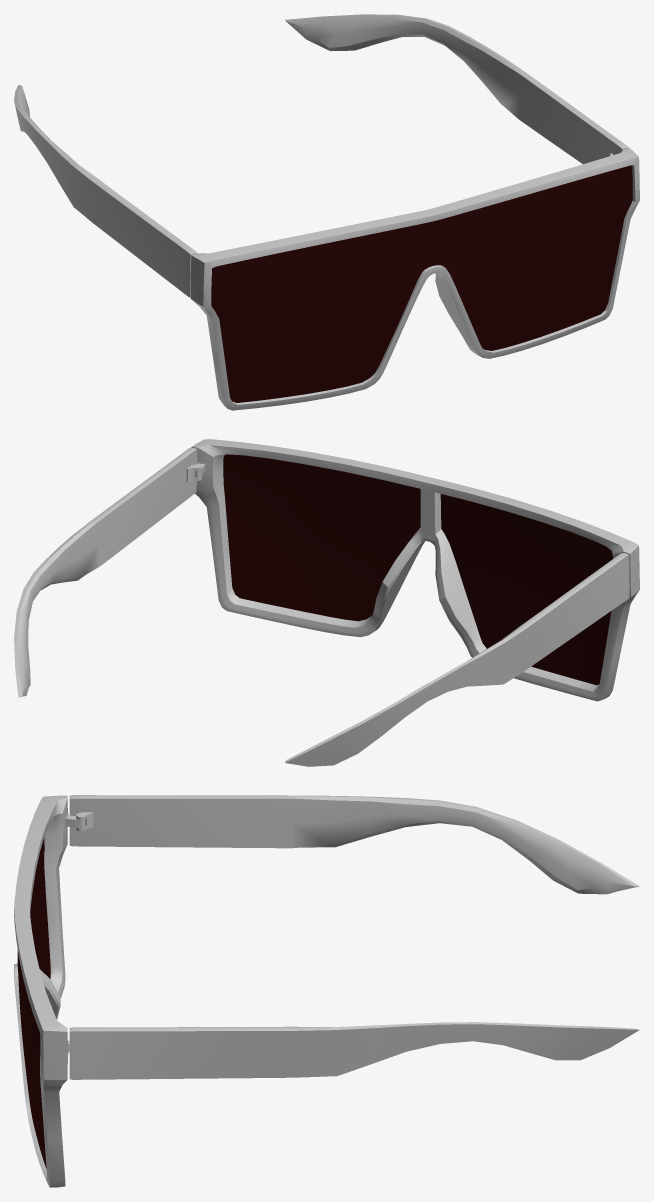
3 views of the same model, one above another, from view 1: azimuth 30°, elevation 25°; view 2: azimuth 150°, elevation 25°; view 3: azimuth 270°, elevation 25° (orthographic). The views are drawn at different scales.
Parts seen in each view (by area): view 1: Lens.001, Arms.001, Frame.001; view 2: Lens.001, Arms.001, Frame.001; view 3: Arms.001, Frame.001, Lens.001.
Part boxes in pixels (x1,y1,x2,y2): Lens.001: (211,165,632,402); Arms.001: (14,14,628,297); Frame.001: (190,148,639,410); Lens.001: (223,454,612,685); Arms.001: (14,447,629,766); Frame.001: (191,439,639,701); Arms.001: (69,795,639,1079); Frame.001: (14,795,67,1187); Lens.001: (17,838,50,1168).
Size of the model in its own units: 1.22 by 0.442 by 1.36.
